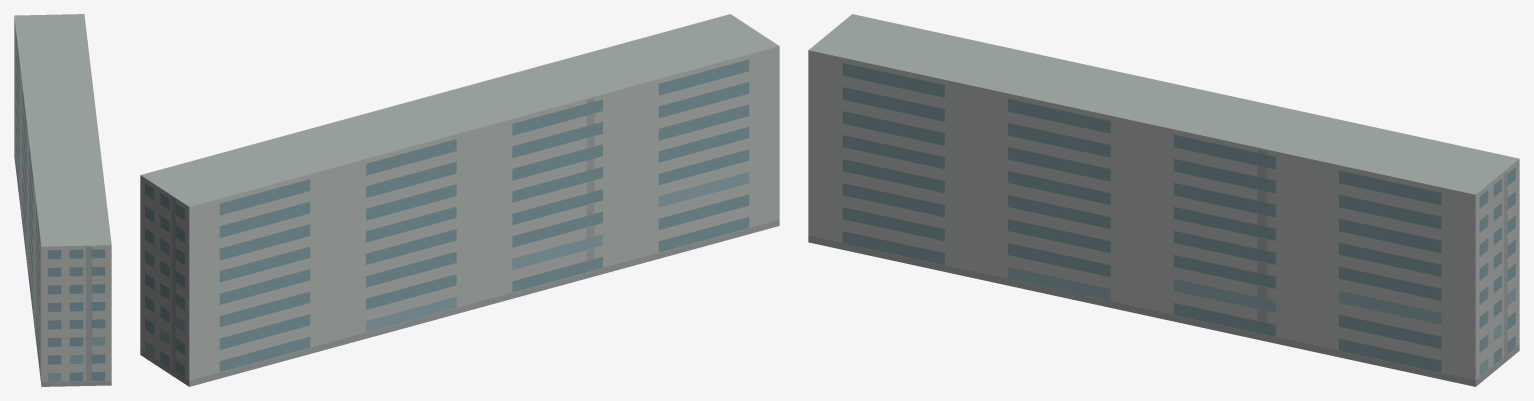
The model's file is residential-5dcc1e44-94cf-4fe5-b4b8-5fda5af910c8.glb.
3 renders of one model, left to right at view 1: azimuth 30°, elevation 25°; view 2: azimuth 150°, elevation 25°; view 3: azimuth 270°, elevation 25°, orthographic. The views are drawn at different scales.
Visible parts, largest first — view 1: residential-5dcc1e44-94cf-4fe5-b4b8-5fda5af910c8.tmp; view 2: residential-5dcc1e44-94cf-4fe5-b4b8-5fda5af910c8.tmp; view 3: residential-5dcc1e44-94cf-4fe5-b4b8-5fda5af910c8.tmp.
Boxes of the visible parts, box(x1,y1,x2,y2) form: residential-5dcc1e44-94cf-4fe5-b4b8-5fda5af910c8.tmp: box(14, 14, 111, 386); residential-5dcc1e44-94cf-4fe5-b4b8-5fda5af910c8.tmp: box(140, 14, 779, 386); residential-5dcc1e44-94cf-4fe5-b4b8-5fda5af910c8.tmp: box(808, 14, 1519, 386).
Bounding box in the file's own units: 49.26 × 24.4 × 81.86.
